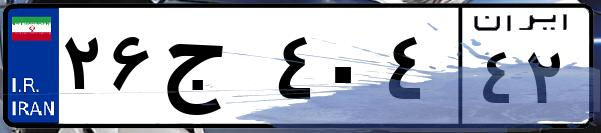0: (330, 28, 385, 110)
2: (57, 26, 110, 100), (525, 38, 570, 115)
4: (270, 28, 330, 110), (385, 28, 445, 110), (475, 38, 525, 113)
6: (110, 28, 158, 98)
ج: (158, 20, 270, 120)
